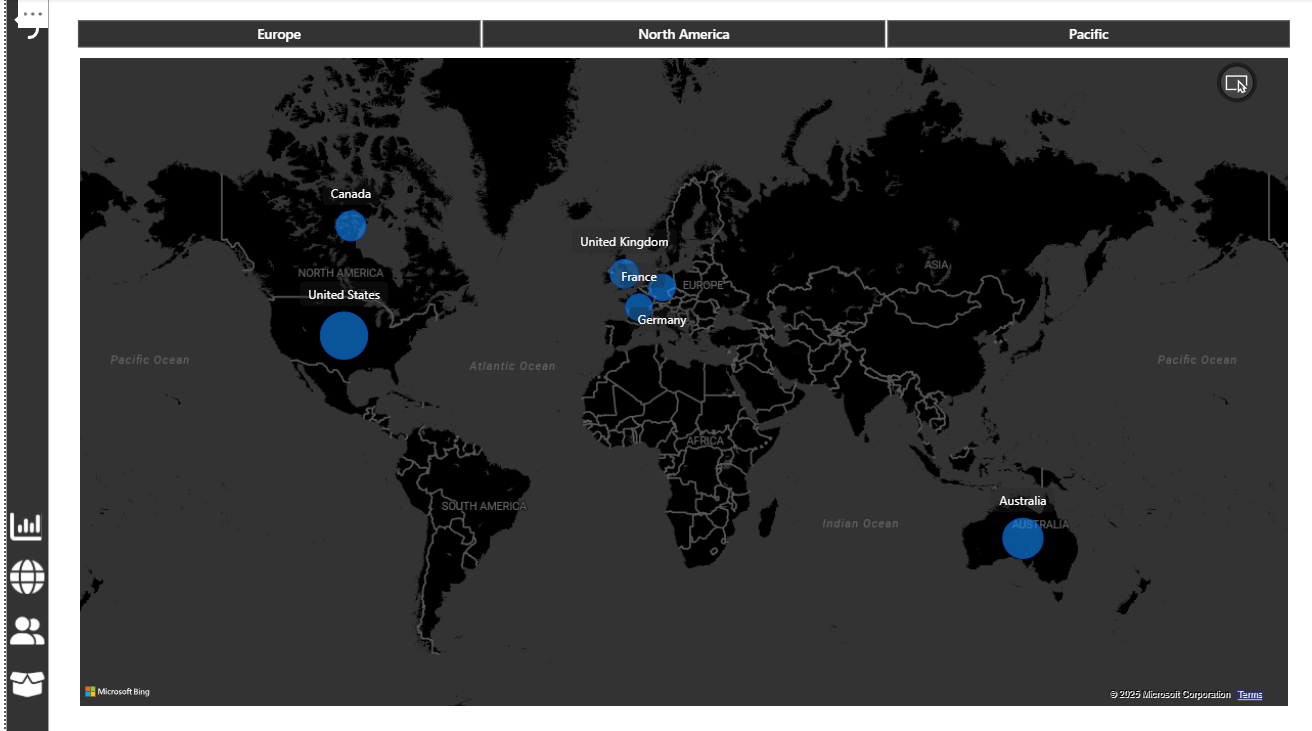

This screenshot's page, from the dashboard's own definition file:
{"tool":"powerbi","page":{"name":"Map","canvas":[1280,720],"ordinal":1},"visuals":[{"type":"map","fields":{"Category":["Territory Lookup.Country"],"Size":["Measure Table.Total orders"]},"box":[67.1,54.3,1191.4,644.3],"z":0},{"type":"slicer","fields":{"Values":["Territory Lookup.Continent"]},"box":[43.8,15,1236.2,38.8],"z":1000},{"type":"shape","box":[0,0,41.4,720],"z":2000},{"type":"actionButton","box":[2.5,8.8,41.2,36.2],"z":3000},{"type":"actionButton","box":[0,497.8,41.8,39],"z":4000},{"type":"actionButton","box":[0,526.6,41.8,77.9],"z":5000},{"type":"actionButton","box":[0,580,41.8,77.9],"z":6000},{"type":"actionButton","box":[0,631.9,41.8,77.9],"z":7000}]}

Visuals, with their boxes in screenshot pixels (x1, y1, x2, y2):
map - Territory Lookup.Country x Measure Table.Total orders: [71,54,1264,700]
slicer - Territory Lookup.Continent: [47,15,1285,54]
shape: [3,0,45,721]
actionButton: [6,9,47,45]
actionButton: [3,499,45,538]
actionButton: [3,527,45,605]
actionButton: [3,581,45,659]
actionButton: [3,633,45,711]
